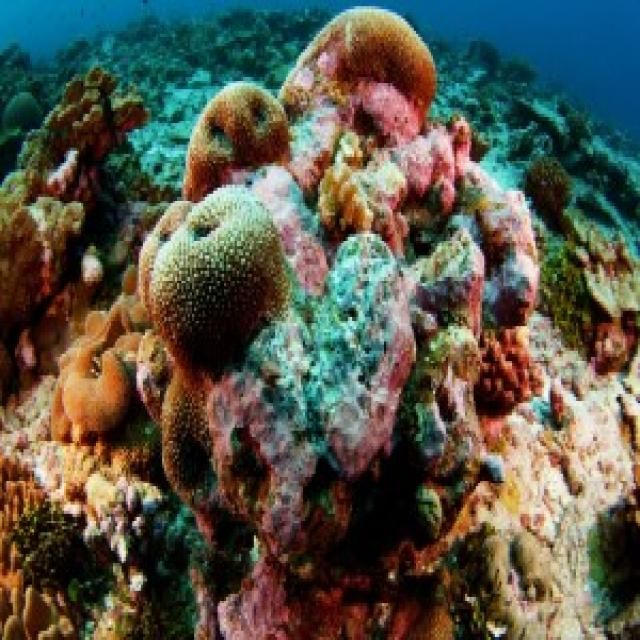Healthy: (210, 235, 415, 552), (1, 69, 146, 398), (152, 186, 289, 373), (283, 7, 436, 118), (1, 453, 76, 638), (359, 84, 468, 210), (184, 81, 291, 198), (321, 143, 406, 250), (163, 367, 210, 506), (65, 352, 133, 438), (477, 327, 543, 413)
